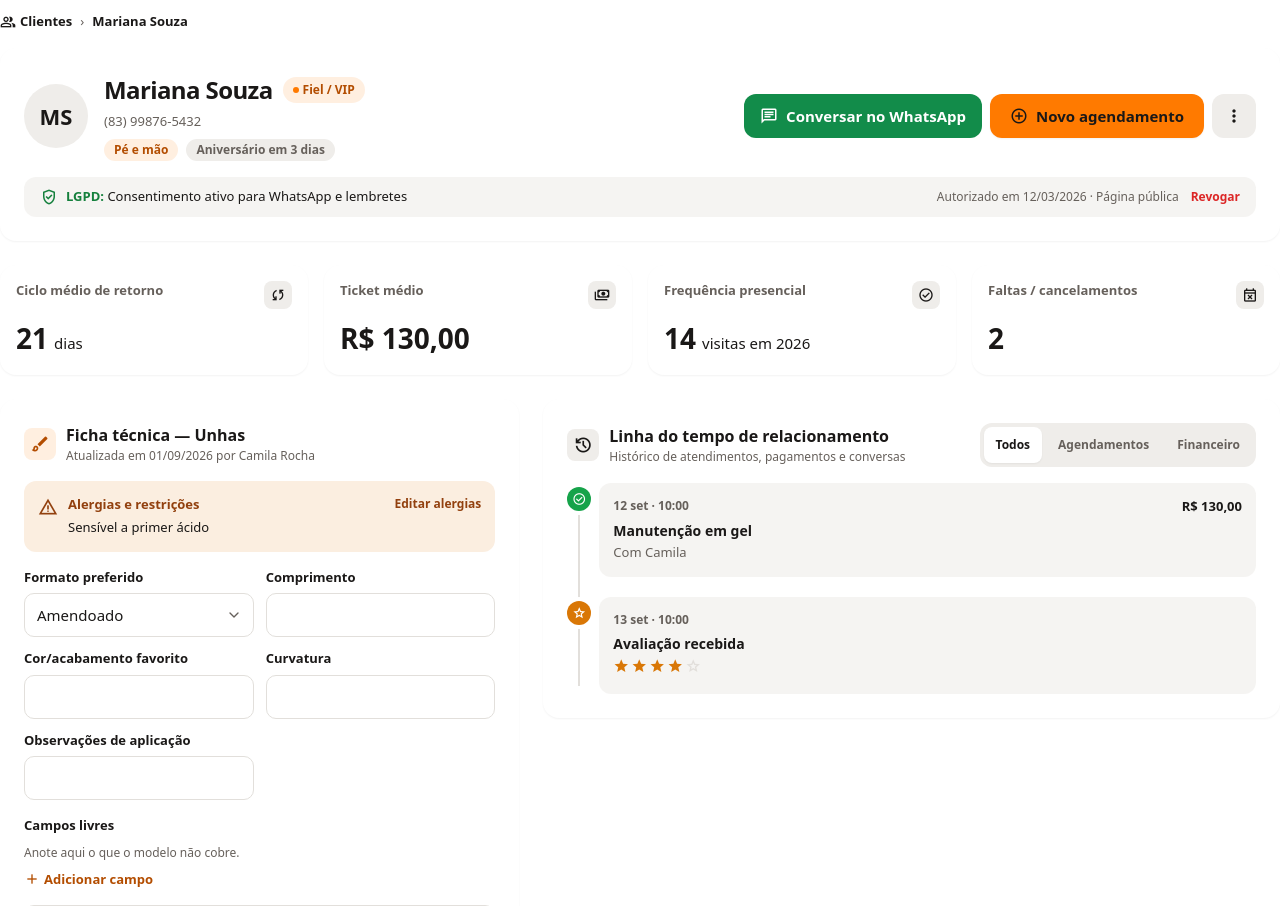
Test: FichaCliente › aba que falha não deixa a lista da aba anterior na tela
expect the heading "Manutenção em gel" is shown: met, box 613,521 -> 752,540
Click the tab "Financeiro".
click(1209, 444)  # box 1165,426 -> 1252,462
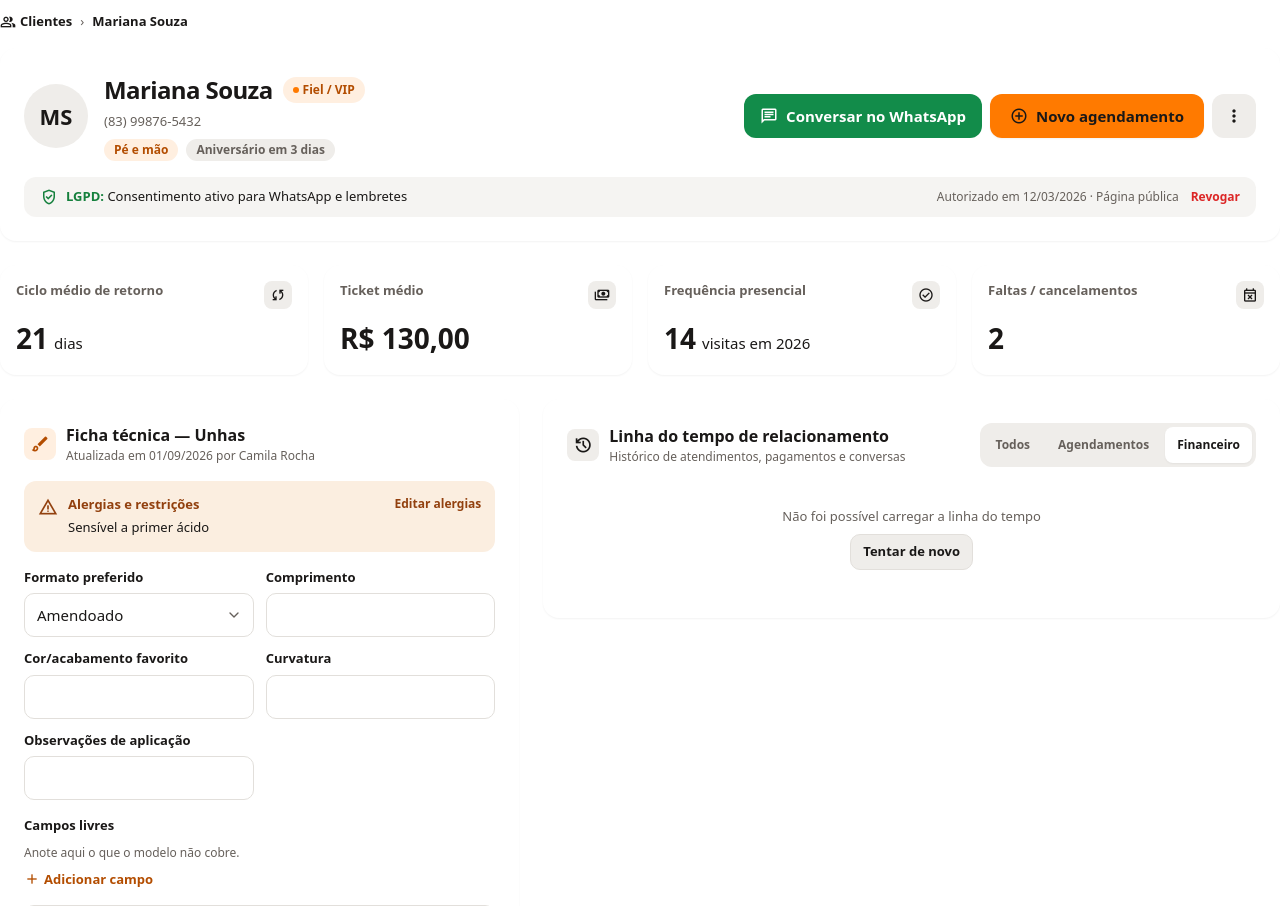
expect the text "Não foi possível carregar a linha do tempo" is shown: met, box 782,506 -> 1041,526
expect the heading "Manutenção em gel" is gone: met
